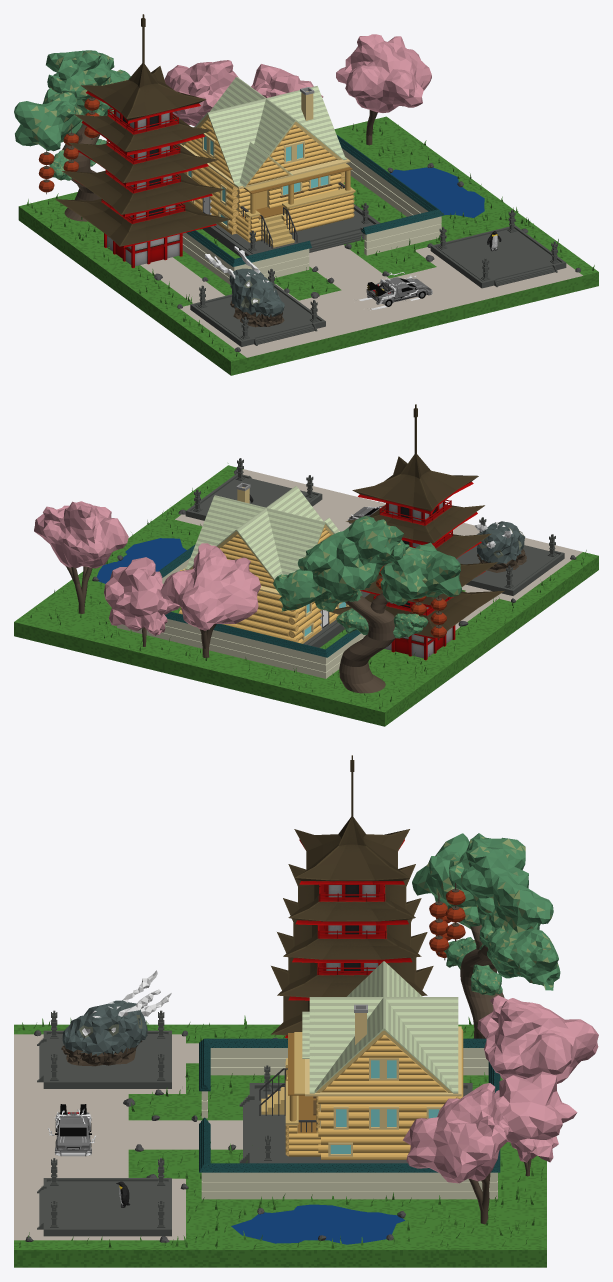
3 views of the same model, one above another, from view 1: azimuth 30°, elevation 25°; view 2: azimuth 150°, elevation 25°; view 3: azimuth 270°, elevation 25° (orthographic). The views are drawn at different scales.
Visible parts, largest first — view 1: Cube.005, Cube.1516, OBJRANDOM_METEORITE, VEHICLES_DELOREAN; view 2: Cube.005, Cube.1516, OBJRANDOM_METEORITE; view 3: Cube.005, Cube.1516, OBJRANDOM_METEORITE, VEHICLES_DELOREAN.
Part boxes in pixels (x1=…): Cube.005: x1=14, y1=14, x2=598, y2=375; Cube.1516: x1=179, y1=77, x2=355, y2=248; OBJRANDOM_METEORITE: x1=205, y1=246, x2=284, y2=327; VEHICLES_DELOREAN: x1=359, y1=272, x2=432, y2=310; Cube.005: x1=14, y1=404, x2=598, y2=726; Cube.1516: x1=178, y1=482, x2=360, y2=643; OBJRANDOM_METEORITE: x1=474, y1=521, x2=526, y2=572; Cube.005: x1=14, y1=755, x2=598, y2=1267; Cube.1516: x1=259, y1=961, x2=463, y2=1159; OBJRANDOM_METEORITE: x1=61, y1=970, x2=171, y2=1066; VEHICLES_DELOREAN: x1=48, y1=1104, x2=95, y2=1156.
Size of the model in its own units: 4528 by 2690 by 4389.
50 materials, 6 textured.
